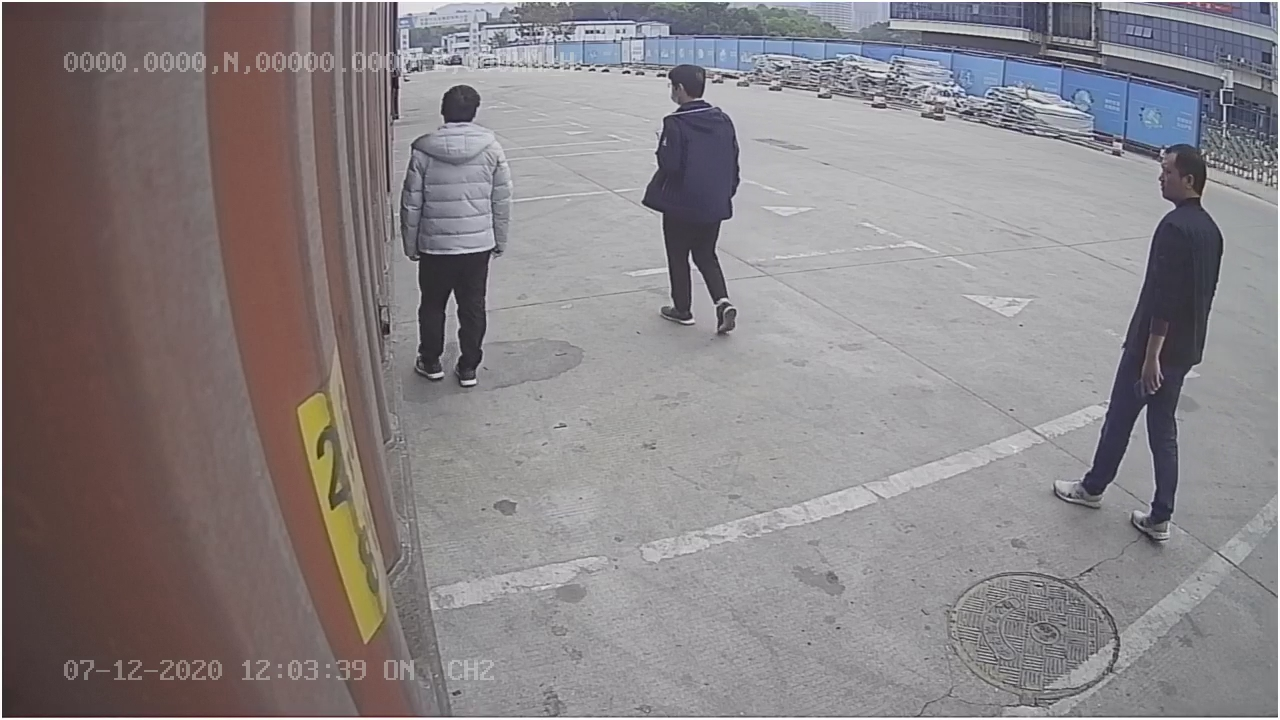person: (1048, 134, 1230, 541), (399, 82, 516, 387), (636, 58, 745, 346)
